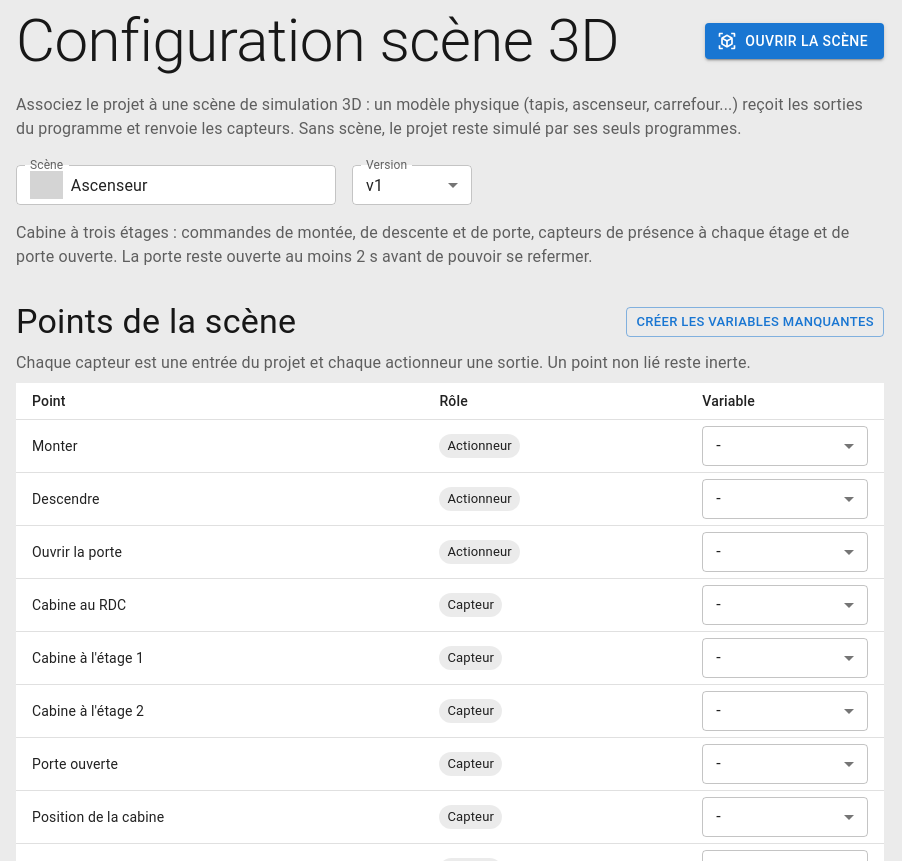
it: Scene3dConfigurationPage: version › affiche la version de la scène et propose toutes ses versions
Press the mouse on the dropdown named "Version" at (374, 185), box [366,176,383,194]
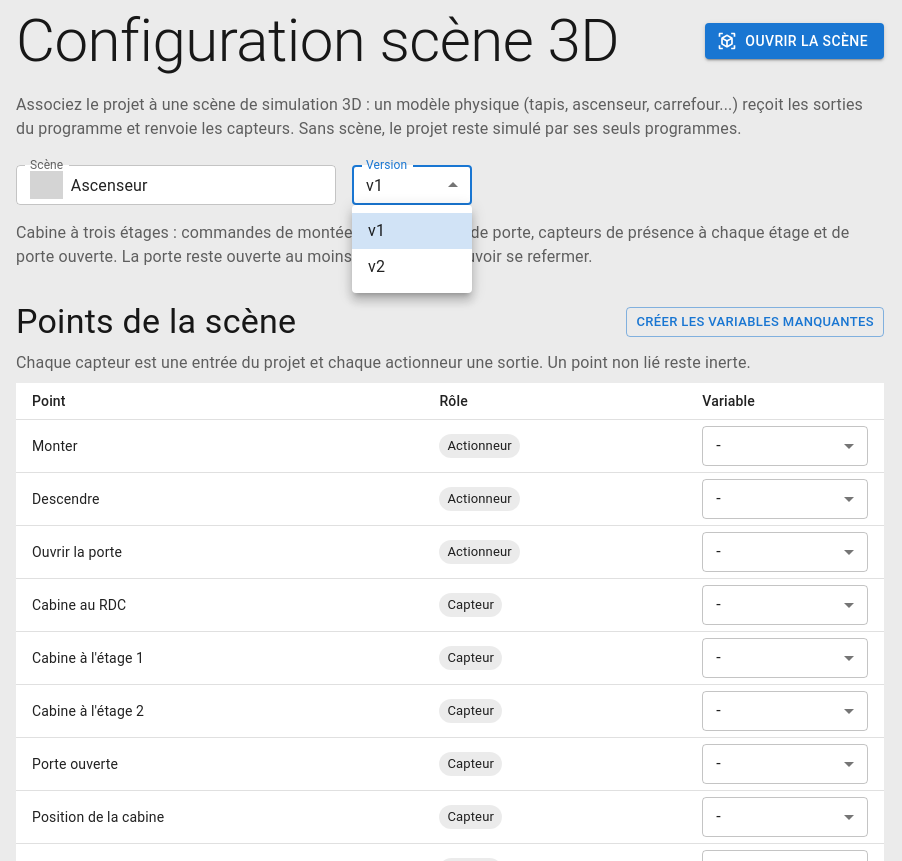
Now the option "v1" is shown, box [352,213,472,249]
Now the option "v2" is shown, box [368,257,385,276]
